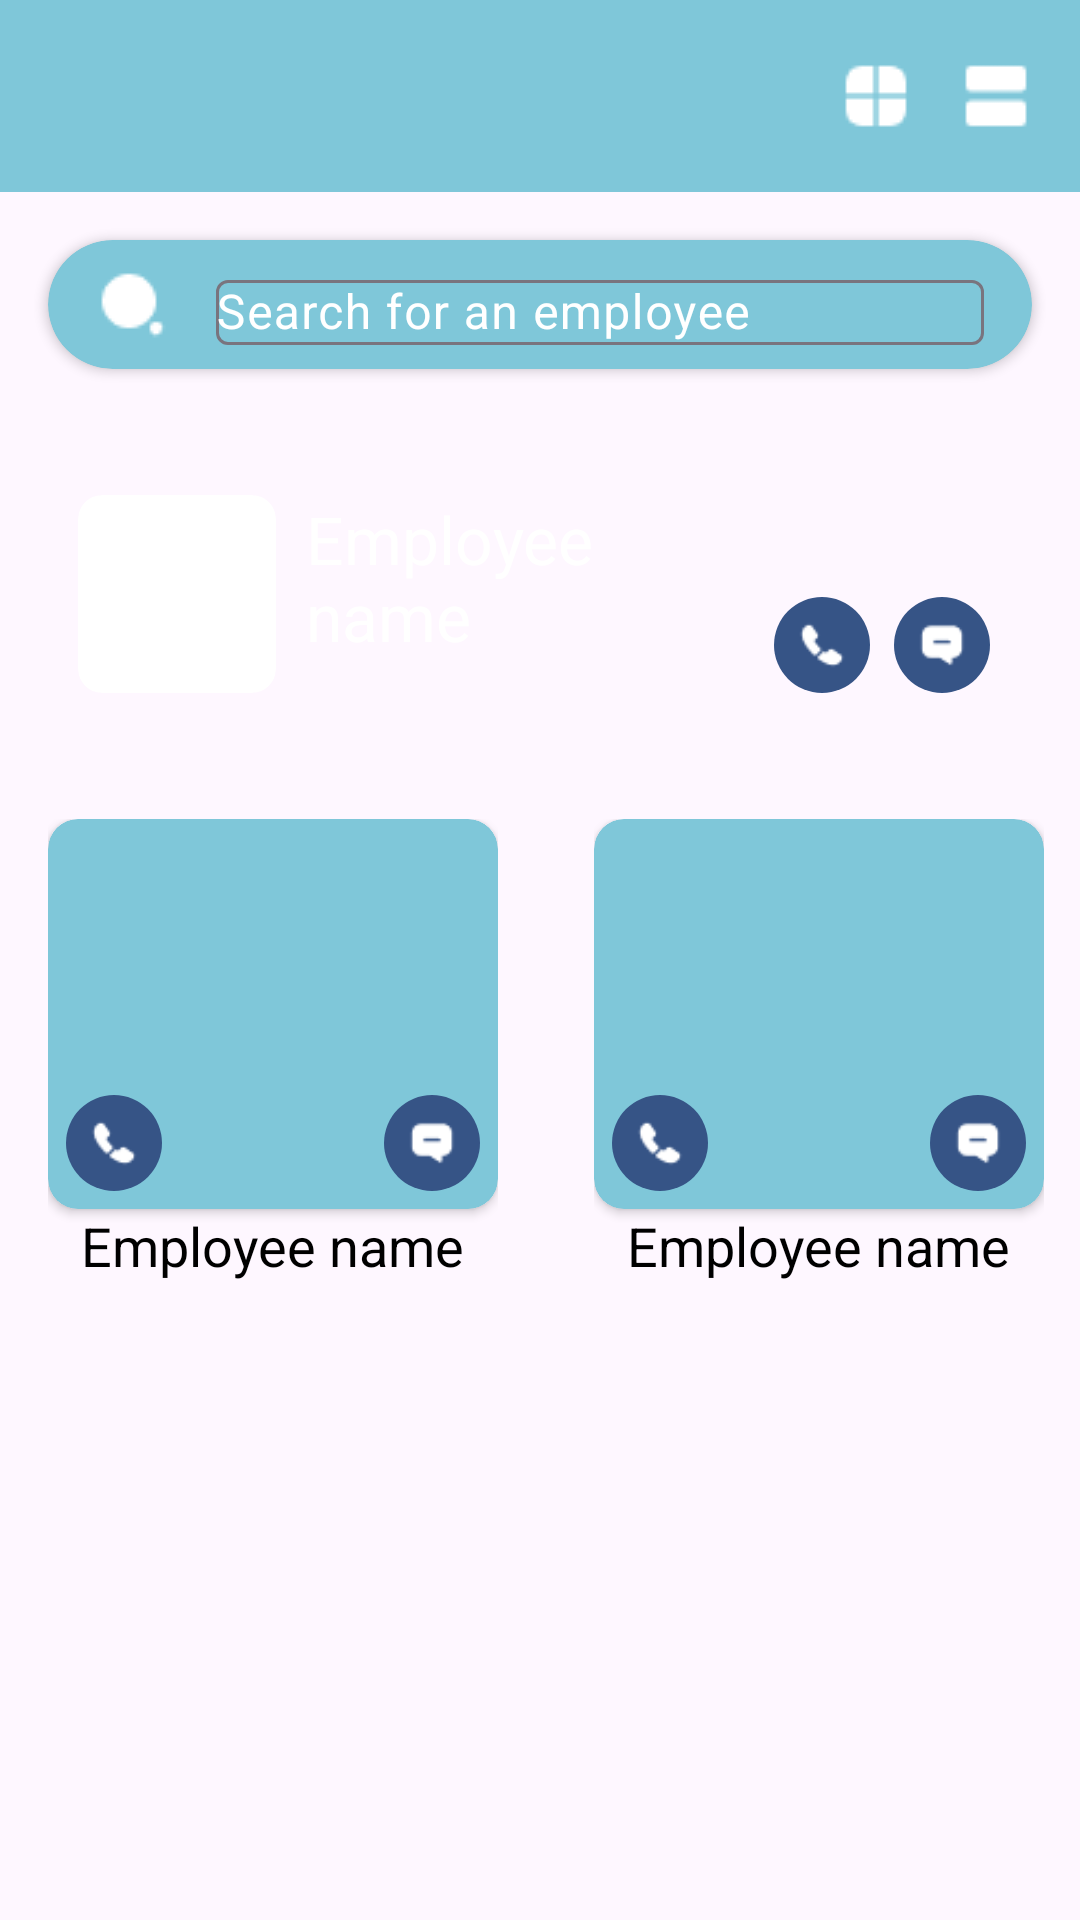

Point at icon controls on the screen. Image size 1080px×1920px, points as [x,y].
call: [822,645], [114,1143], [660,1143]
Grid View: [876,96]
List View: [996,96]
message: [942,645], [432,1143], [978,1143]
